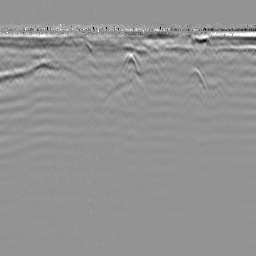cavity: (121, 49, 140, 70)
